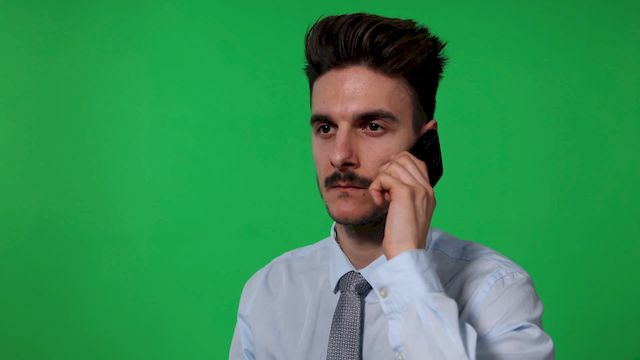phone: (379, 138, 446, 189)
talk: (307, 103, 447, 257)
